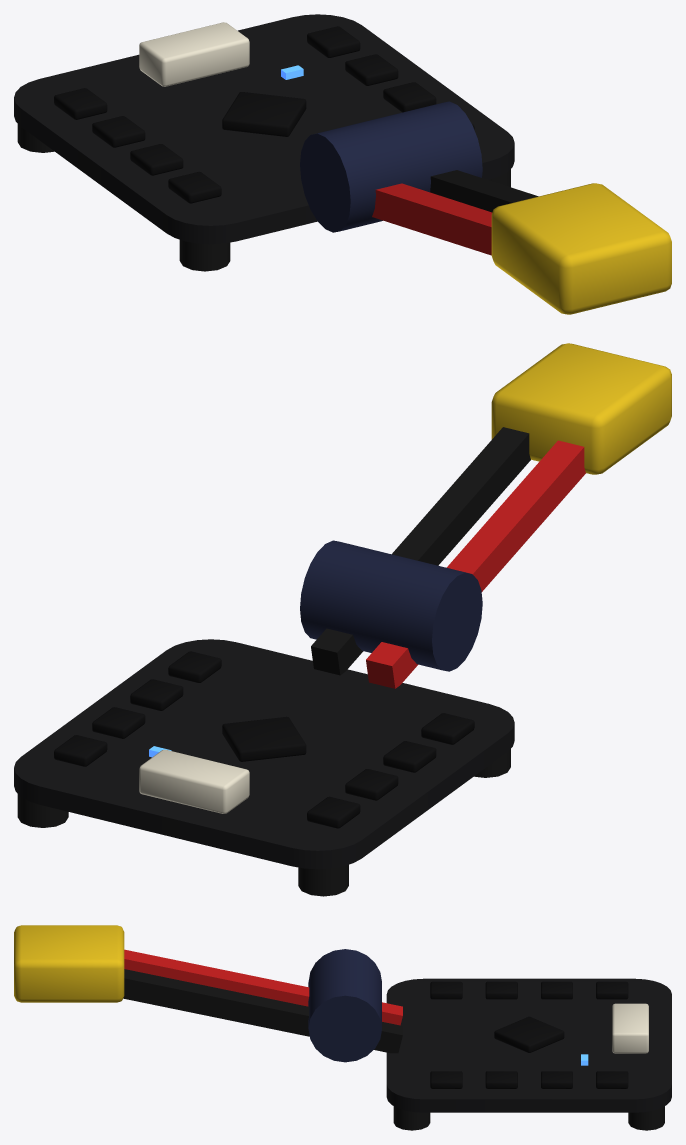
Rendered from stack_20.glb.
3 renders of one model, top to bottom at view 1: azimuth 30°, elevation 25°; view 2: azimuth 150°, elevation 25°; view 3: azimuth 270°, elevation 25°, orthographic. The views are drawn at different scales.
Visible parts, largest first — view 1: stack_20_M_PCB, stack_20_M_XT60, stack_20_M_Cap, stack_20_M_Chip, stack_20_M_Connector, stack_20_M_WireRed, stack_20_M_WireBlack, stack_20_M_Rubber; view 2: stack_20_M_PCB, stack_20_M_Cap, stack_20_M_XT60, stack_20_M_Chip, stack_20_M_WireRed, stack_20_M_WireBlack, stack_20_M_Connector, stack_20_M_Rubber; view 3: stack_20_M_PCB, stack_20_M_XT60, stack_20_M_Cap, stack_20_M_Chip, stack_20_M_WireBlack, stack_20_M_WireRed, stack_20_M_Connector, stack_20_M_Rubber.
Boxes of the visible parts, bbox=[...] form: stack_20_M_PCB: bbox=[14, 14, 514, 244]; stack_20_M_XT60: bbox=[491, 183, 671, 314]; stack_20_M_Cap: bbox=[300, 101, 482, 232]; stack_20_M_Chip: bbox=[54, 26, 474, 203]; stack_20_M_Connector: bbox=[139, 22, 249, 86]; stack_20_M_WireRed: bbox=[372, 183, 491, 255]; stack_20_M_WireBlack: bbox=[430, 170, 538, 212]; stack_20_M_Rubber: bbox=[17, 124, 510, 271]; stack_20_M_PCB: bbox=[14, 639, 514, 869]; stack_20_M_Cap: bbox=[300, 540, 482, 671]; stack_20_M_XT60: bbox=[491, 343, 671, 474]; stack_20_M_Chip: bbox=[54, 651, 474, 828]; stack_20_M_WireRed: bbox=[366, 440, 585, 688]; stack_20_M_WireBlack: bbox=[311, 427, 530, 675]; stack_20_M_Connector: bbox=[139, 749, 249, 813]; stack_20_M_Rubber: bbox=[17, 749, 510, 896]; stack_20_M_PCB: bbox=[386, 978, 671, 1112]; stack_20_M_XT60: bbox=[14, 925, 124, 1002]; stack_20_M_Cap: bbox=[308, 949, 381, 1062]; stack_20_M_Chip: bbox=[430, 981, 628, 1088]; stack_20_M_WireBlack: bbox=[123, 969, 402, 1053]; stack_20_M_WireRed: bbox=[124, 949, 402, 1025]; stack_20_M_Connector: bbox=[612, 1003, 648, 1053]; stack_20_M_Rubber: bbox=[393, 1106, 664, 1130].
Bounding box in the file's own units: 0.031 × 0.0157 × 0.0715.
